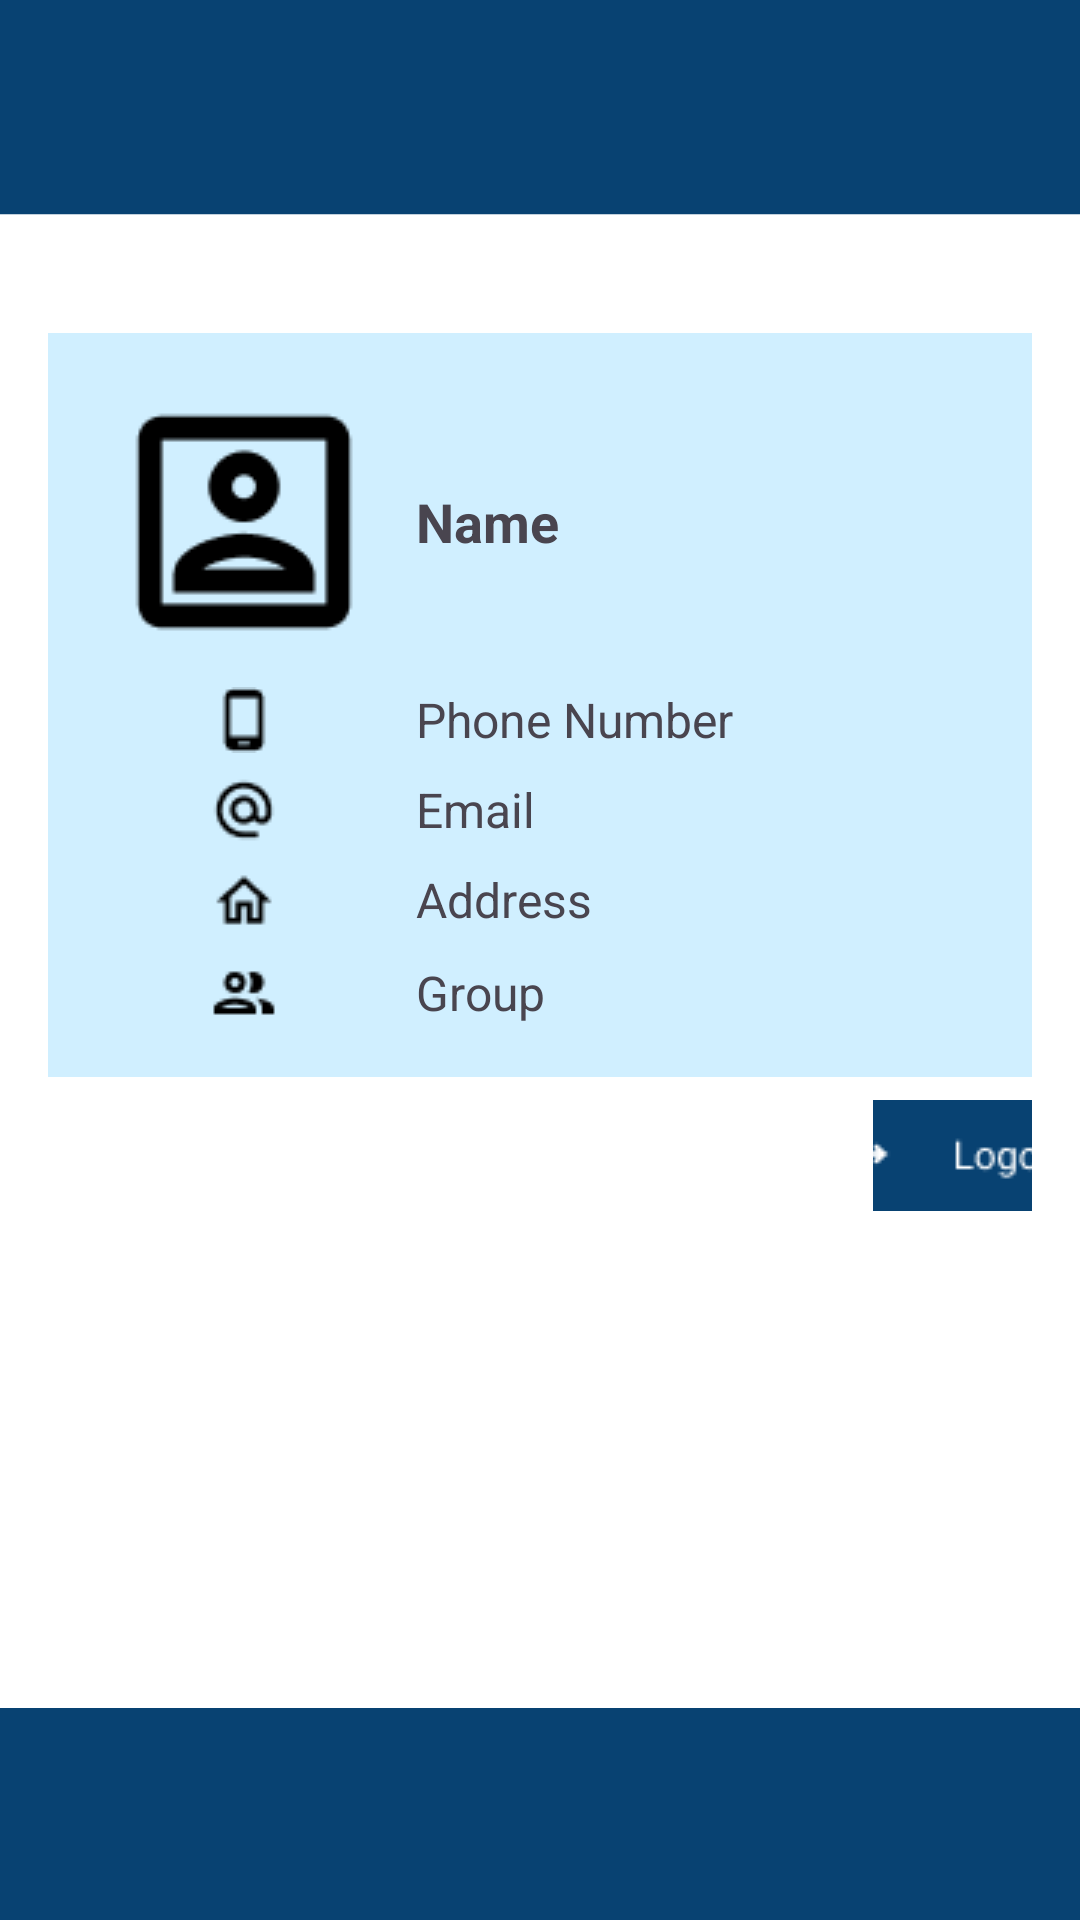

Named icons in this screenshot (1080px×1920px) and their centers, [x,y]:
bahay: [244,900]
portrait: [244,522]
